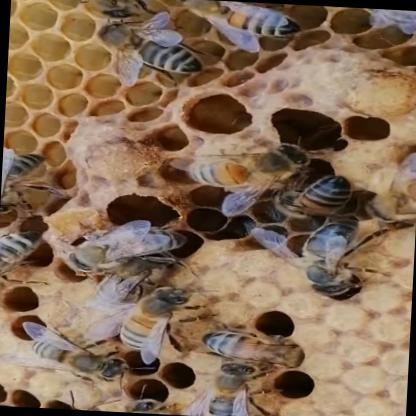bee: (60, 9, 232, 96), (142, 124, 328, 198), (256, 214, 392, 315), (0, 304, 136, 401), (109, 270, 227, 370), (151, 0, 324, 61), (253, 162, 366, 244), (0, 121, 74, 239), (171, 350, 299, 416), (340, 142, 416, 246), (194, 322, 308, 382), (0, 373, 163, 414), (363, 8, 416, 45)
